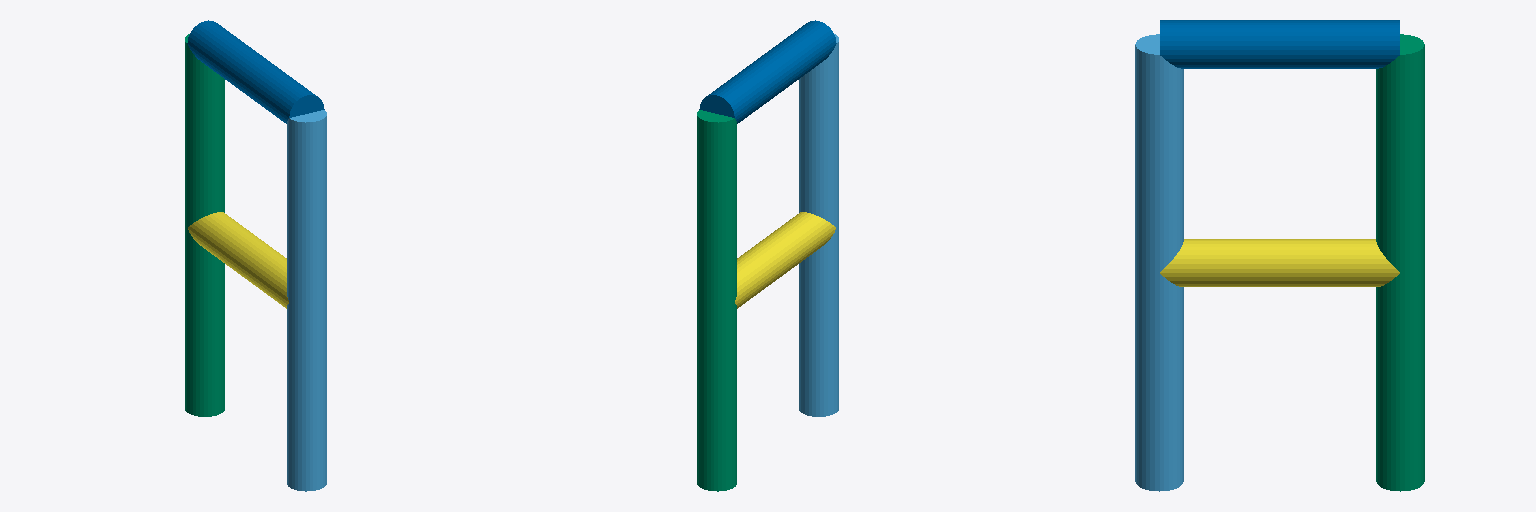
The robot description file, URDF, robot "gate":
<?xml version="1.0"?>
<robot name="gate">
  
  <!-- Base link --> 
  <link name="world" />    

  <link name="left">
    <visual>
      <geometry>
        <cylinder length="2" radius="0.1"/>
      </geometry>
      <origin rpy="0 0 0" xyz="0 -0.5 1"/>
    </visual>
  </link>

  <link name="right">
    <visual>
      <geometry>
        <cylinder length="2" radius="0.1"/>
      </geometry>
      <origin rpy="0 0 0" xyz="0 0 -1"/>
    </visual>
  </link>

  <link name="bottom">
    <visual>
      <geometry>
        <cylinder length="1" radius="0.1"/>
      </geometry>
      <origin rpy="1.5708 0 0" xyz="0 0.5 0"/>
    </visual>
  </link>

  <link name="top">
    <visual>
      <geometry>
        <cylinder length="1" radius="0.1"/>
      </geometry>
      <origin rpy="1.5708 0 0" xyz="0 0.5 0"/>
    </visual>
  </link>

  <joint name="world_to_left" type="fixed">
    <parent link="world"/>
    <child link="left"/>
    <origin xyz="1 0 0 "/>
  </joint>

  <joint name="left_to_bottom" type="fixed">
    <parent link="left"/>
    <child link="bottom"/>
    <origin xyz="0 -0.5 1"/>
  </joint>

  <joint name="left_to_top" type="fixed">
    <parent link="left"/>
    <child link="top"/>
    <origin xyz="0 -0.5 2"/>
  </joint>

  <joint name="top_to_right" type="fixed">
    <parent link="top"/>
    <child link="right"/>
    <origin xyz="0 1 0"/>
  </joint>

</robot>

--- What the picture shows (computed from the rendered views, not written in the file) ---
3 views of the same robot in one strip: view 1: azimuth 30°, elevation 25°; view 2: azimuth 150°, elevation 25°; view 3: azimuth 270°, elevation 25° (orthographic).
Robot: gate — 5 links, 4 joints (4 fixed); root link world; default pose: every joint at zero.
Links seen in each view (by area): view 1: left, right, top, bottom; view 2: right, left, top, bottom; view 3: left, right, top, bottom.
Link boxes in pixels (left/top/right/bottom): left: left=287, top=110, right=326, bottom=491; right: left=185, top=34, right=224, bottom=416; top: left=187, top=20, right=324, bottom=123; bottom: left=188, top=212, right=288, bottom=308; right: left=697, top=110, right=736, bottom=491; left: left=799, top=34, right=838, bottom=416; top: left=699, top=20, right=836, bottom=123; bottom: left=735, top=212, right=835, bottom=308; left: left=1135, top=34, right=1183, bottom=491; right: left=1376, top=34, right=1424, bottom=491; top: left=1160, top=20, right=1399, bottom=68; bottom: left=1160, top=239, right=1399, bottom=286.
Bounding box of the posed robot: 0.2 × 1.2 × 2.1 m (x, y, z).
Geometry: primitives only (box / cylinder / sphere), no mesh files.